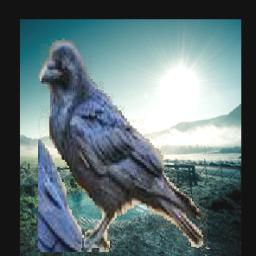Crow: (38, 39, 208, 253)
